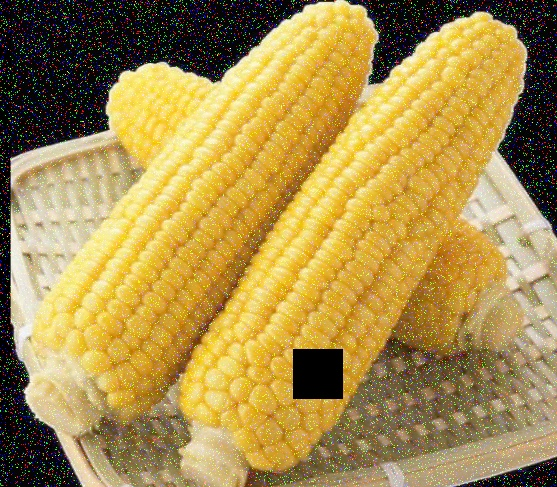corn: (23, 1, 376, 418), (213, 15, 512, 478), (103, 61, 510, 323)
